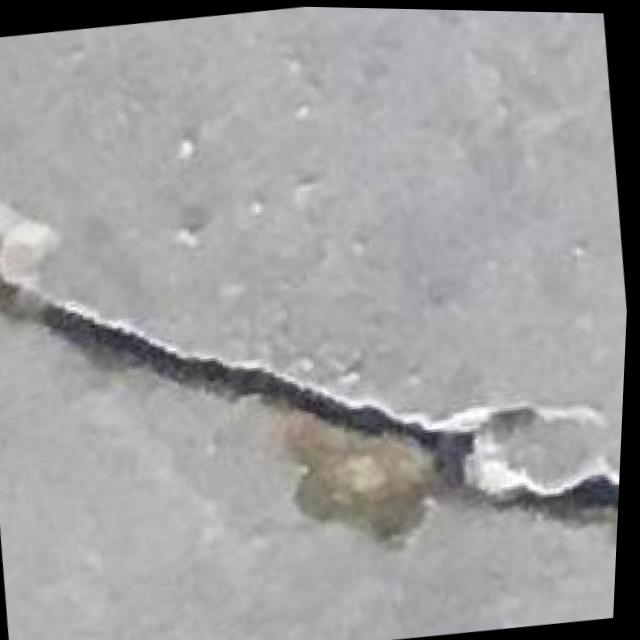Crack: (0, 201, 633, 620)
